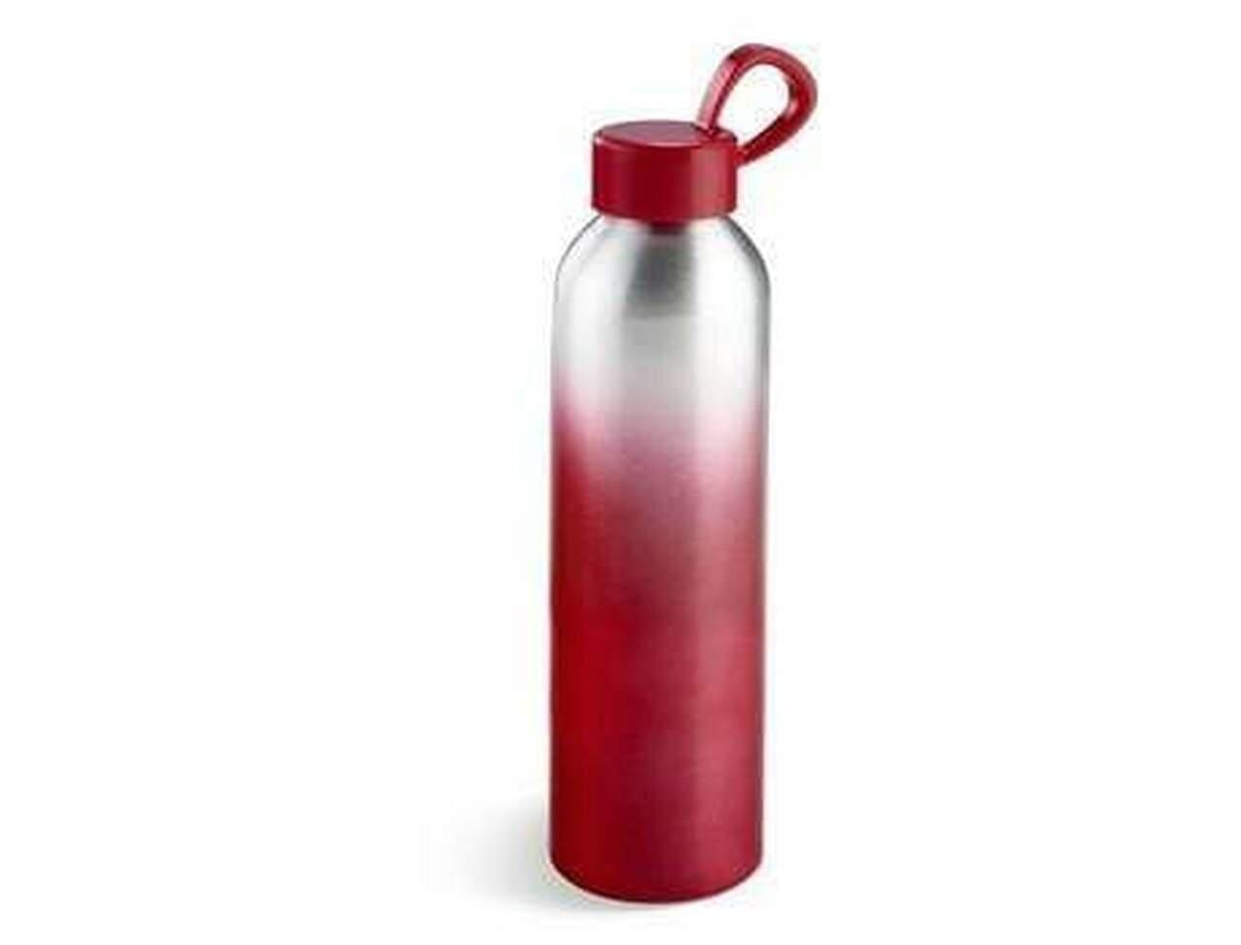gym bottle: (541, 40, 811, 907)
